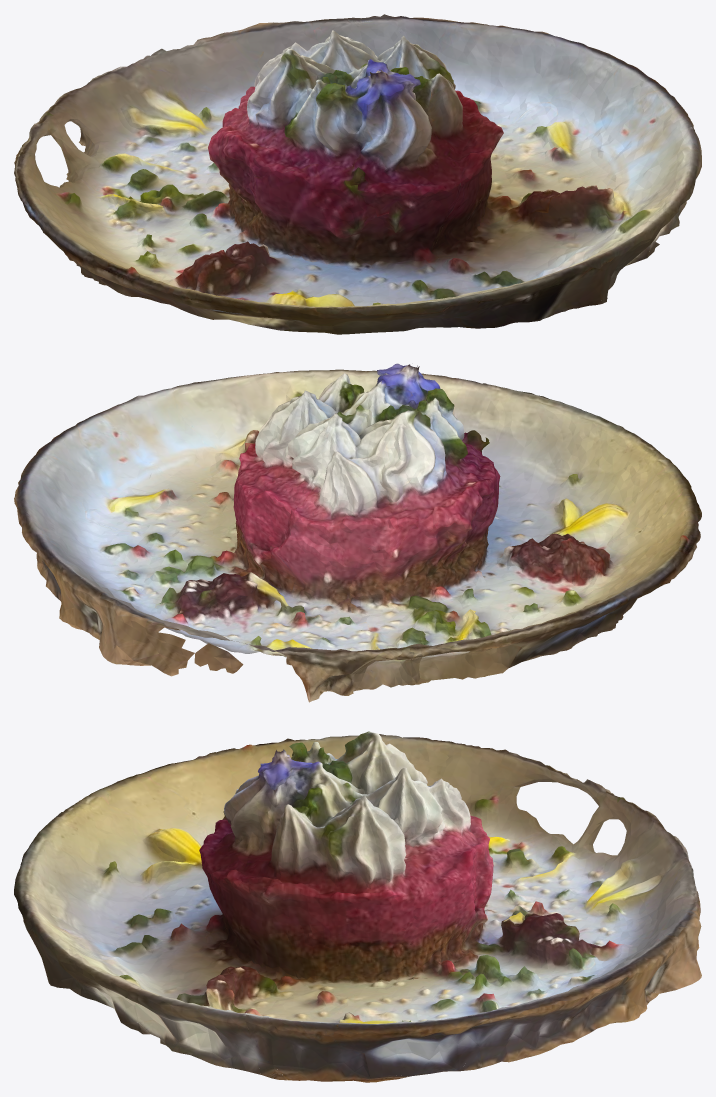
Rendered from beetroot-cheesecake.glb.
3 views of the same model, one above another, from view 1: azimuth 30°, elevation 25°; view 2: azimuth 150°, elevation 25°; view 3: azimuth 270°, elevation 25° (orthographic). The views are drawn at different scales.
Parts seen in each view (by area): view 1: Object_4; view 2: Object_4; view 3: Object_4.
Part boxes in pixels (left/top/right/bottom): Object_4: left=14, top=14, right=701, bottom=334; Object_4: left=14, top=363, right=701, bottom=702; Object_4: left=14, top=731, right=701, bottom=1082.
Bounding box in the file's own units: 0.24 × 0.0664 × 0.2323.
Materials: 1 (1 with a texture image).
